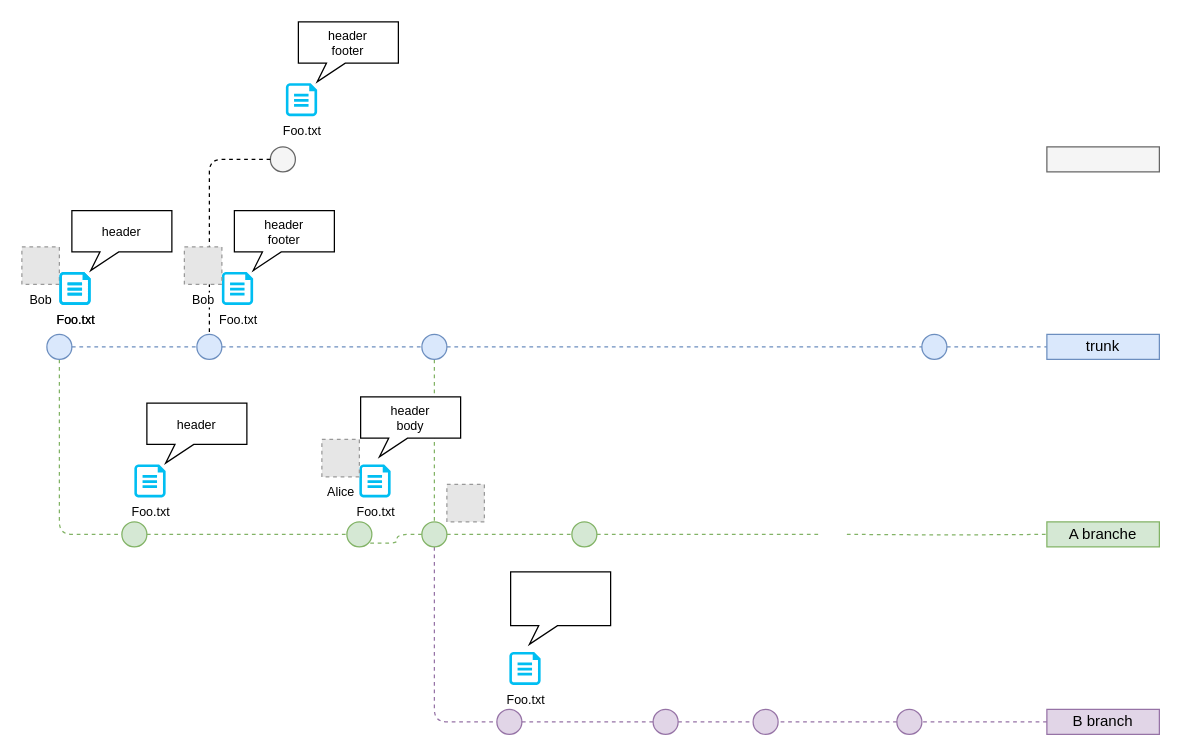
Some shapes in this 1181 by 756 pixel diagram are drawn without their labels. Grey dashed boxes stand in for pictures. Here are the shapes that lost their labels. From the top down, the centre of each, then its label:
(1102,159): tag
(560,607): header body footer
